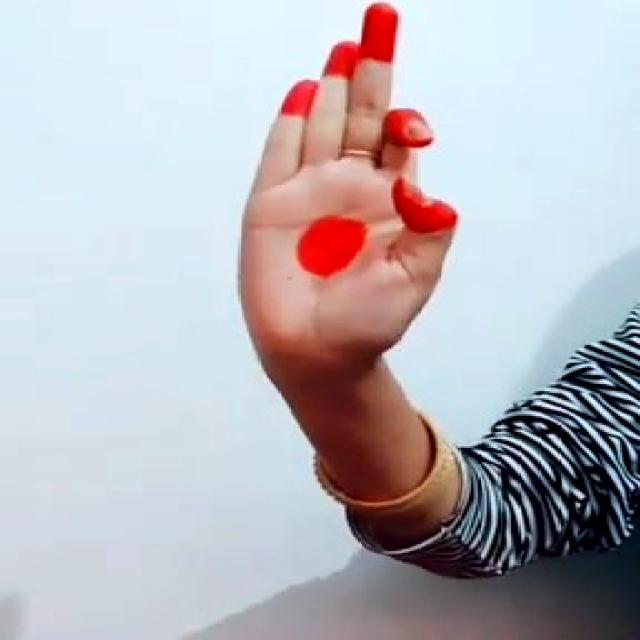Arala: (205, 5, 508, 357)
bangle: (278, 398, 474, 521)
